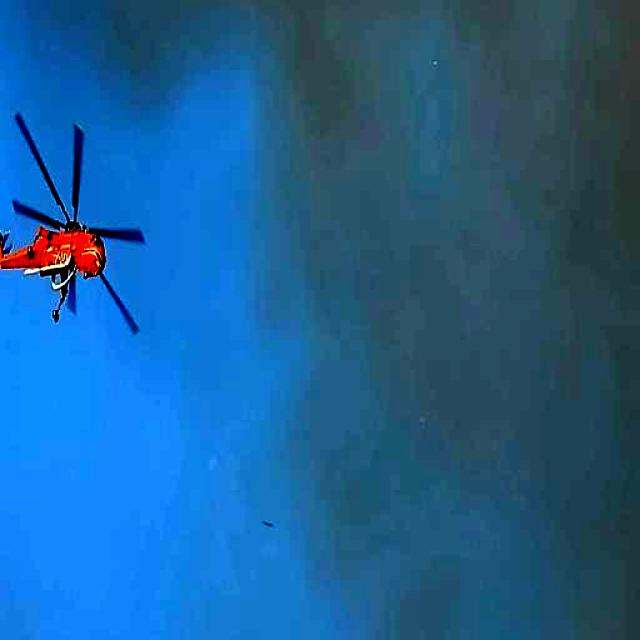drone: (0, 108, 158, 341)
